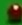brown: (0, 0, 22, 25)
